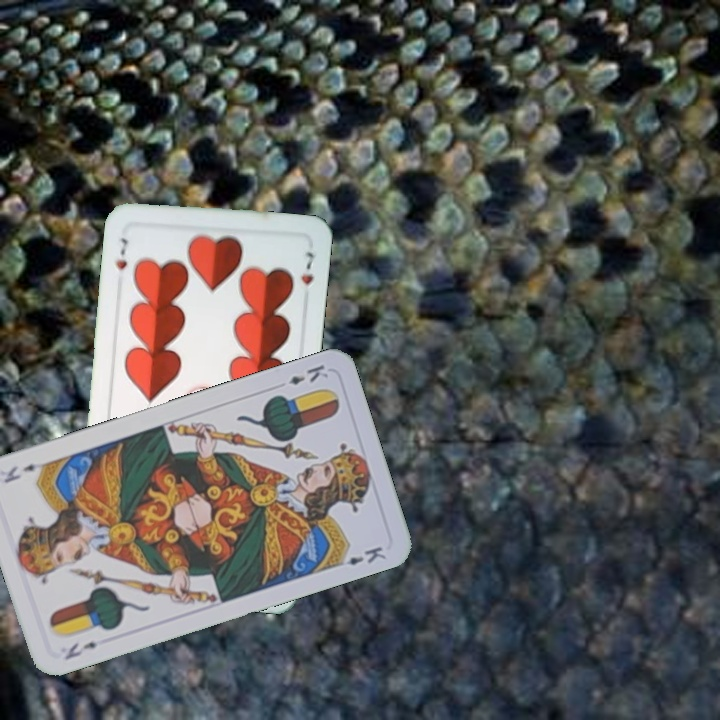EK: (284, 360, 331, 388), (60, 637, 100, 663)
H7: (111, 233, 130, 272)
